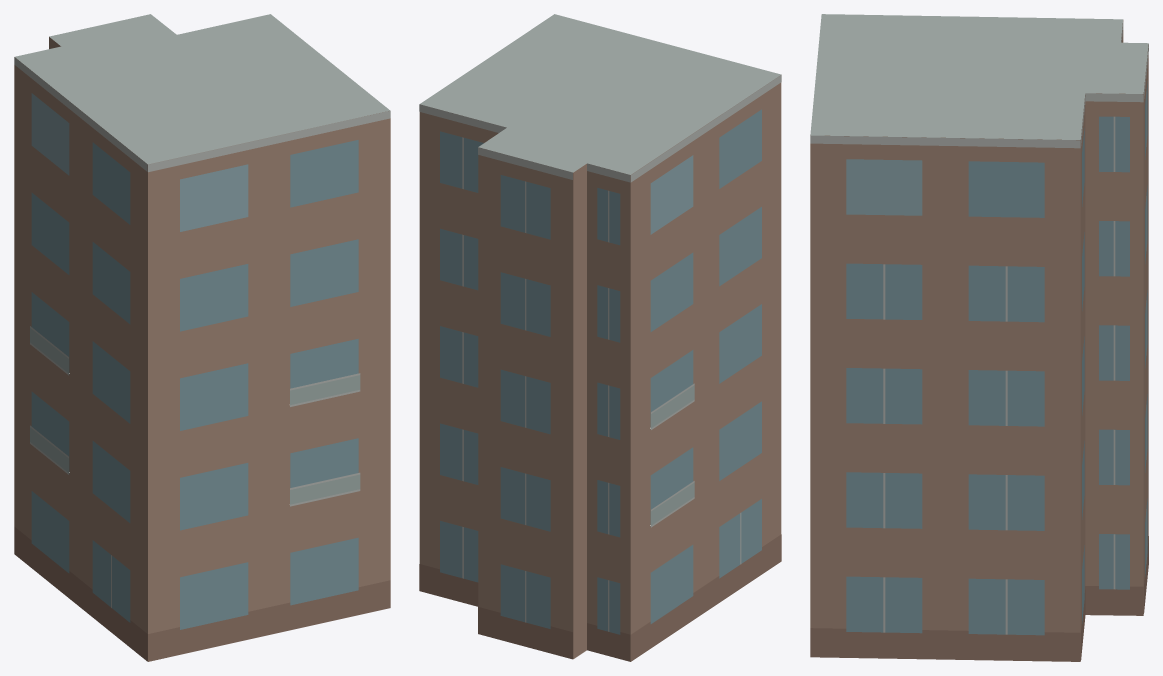
File: survey-upis-32973458.glb
3 views of the same model, side by side, from view 1: azimuth 30°, elevation 25°; view 2: azimuth 150°, elevation 25°; view 3: azimuth 270°, elevation 25° (orthographic). The views are drawn at different scales.
Parts seen in each view (by area): view 1: survey-upis-32973458.tmp; view 2: survey-upis-32973458.tmp; view 3: survey-upis-32973458.tmp.
Boxes of the visible parts, x1=… form: survey-upis-32973458.tmp: x1=14, y1=14, x2=390, y2=661; survey-upis-32973458.tmp: x1=419, y1=14, x2=781, y2=661; survey-upis-32973458.tmp: x1=810, y1=14, x2=1148, y2=661.
Size of the model in its own units: 8.1 by 15.6 by 9.18.
